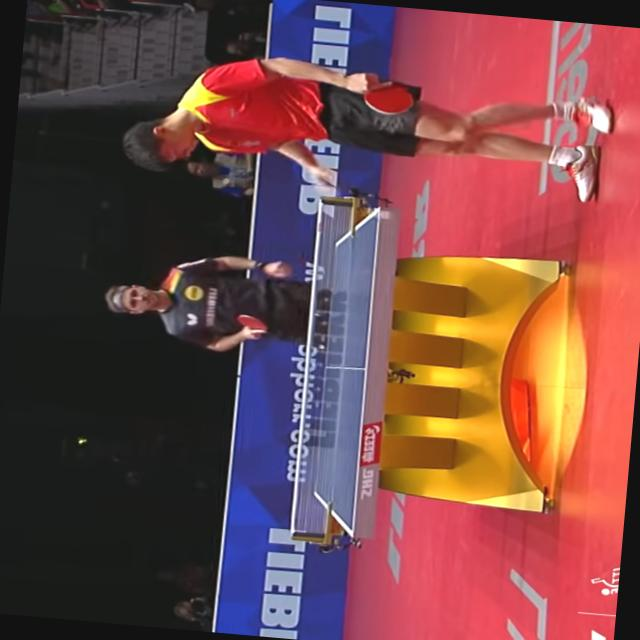TT Net: (288, 194, 360, 542)
TT Racket: (356, 72, 427, 126), (228, 308, 272, 334)
TT Table: (307, 203, 383, 536)
